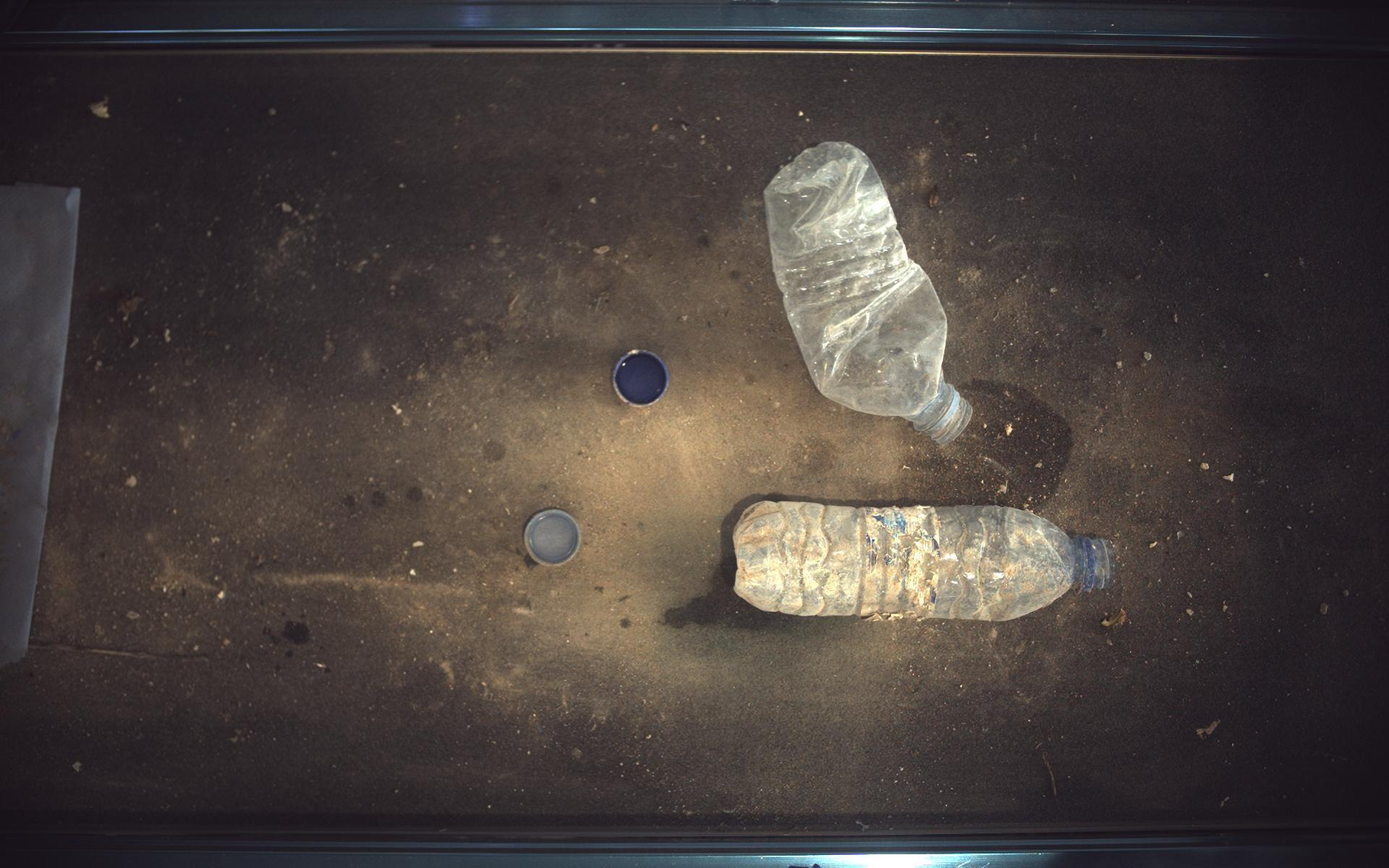general_w: (765, 141, 974, 445), (734, 502, 1118, 621), (613, 349, 671, 408), (524, 510, 583, 567)
